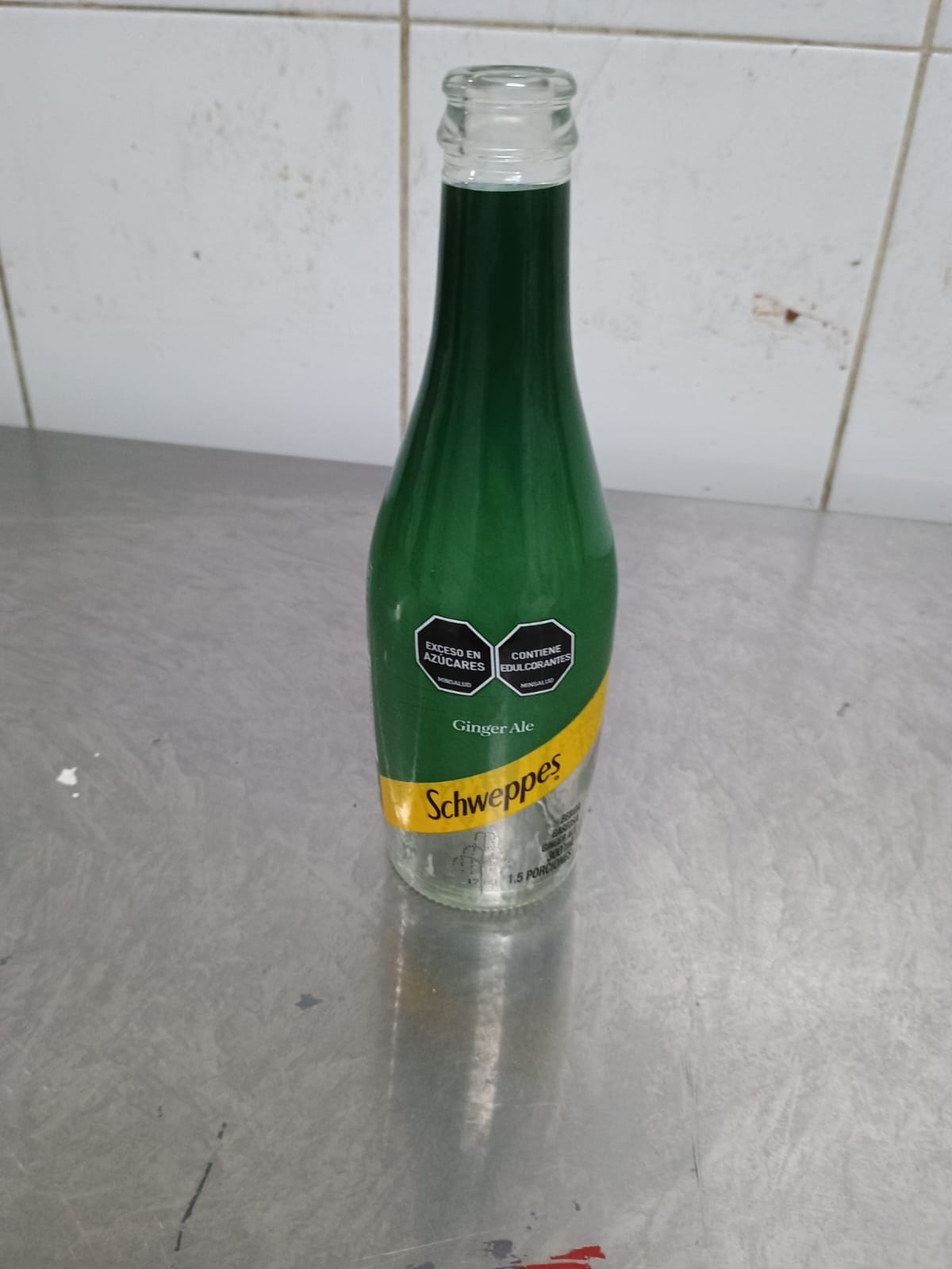Vidrio: (365, 65, 614, 915)
